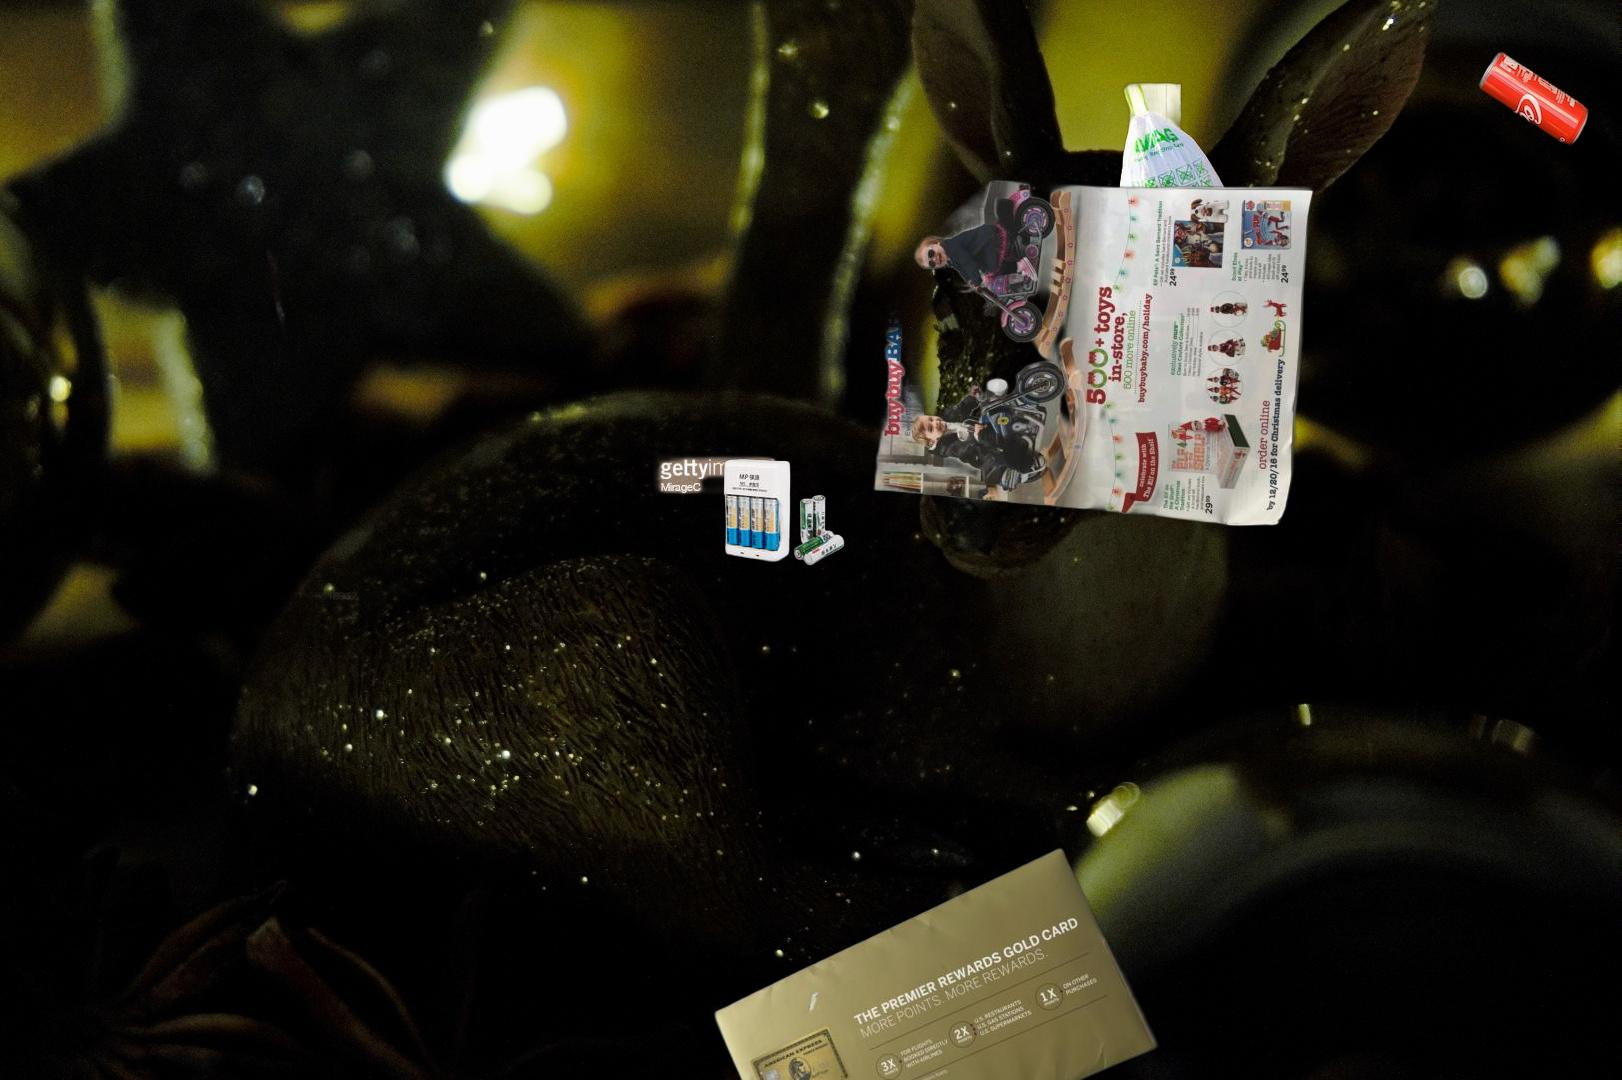battery: (721, 456, 847, 568)
metal-cans: (1475, 46, 1594, 151)
paper: (868, 174, 1321, 528), (710, 844, 1163, 1080), (31, 204, 333, 505)
plastic-bag: (1117, 80, 1251, 271)
trashbox-cardboard: (294, 450, 801, 604)
